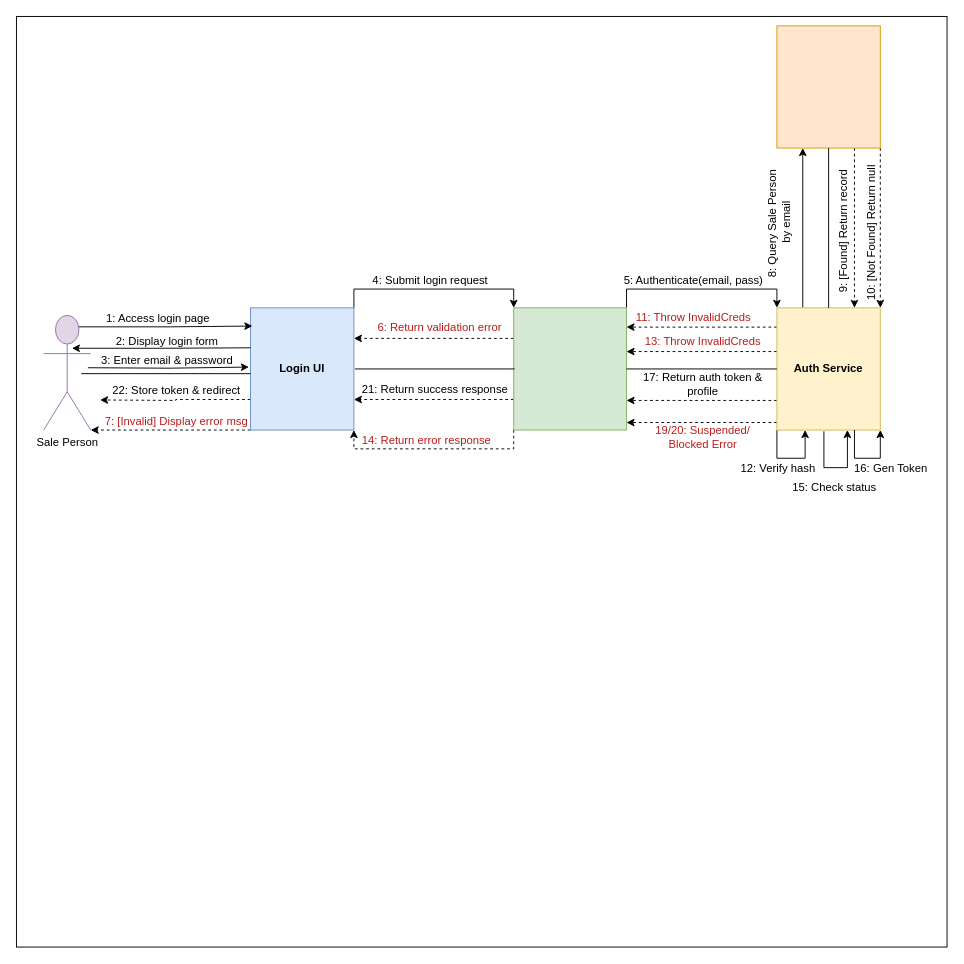
Image size: 964x964. Some labels were removed from this diagram. Here are the shapes that lost their labels. From the top down, the box of each, then its label:
(776, 25, 880, 148): Database
(513, 307, 627, 430): Auth Controller
